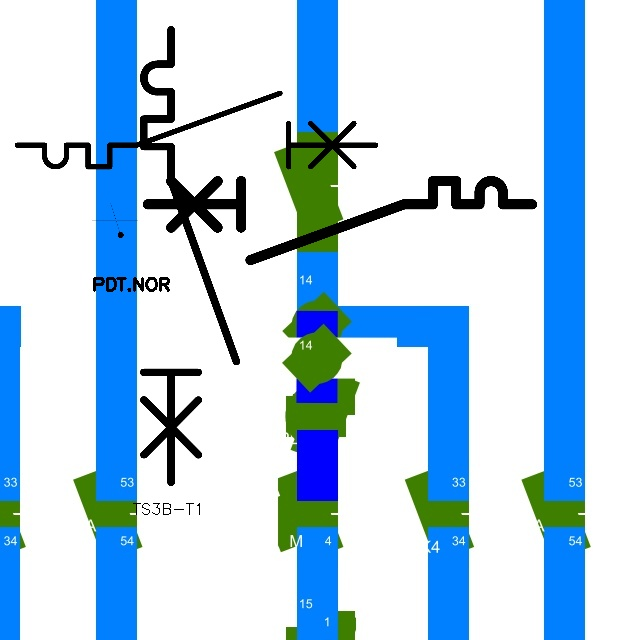interruptor_termomagnetico: (132, 18, 248, 494), (137, 171, 541, 270), (8, 84, 385, 176)
